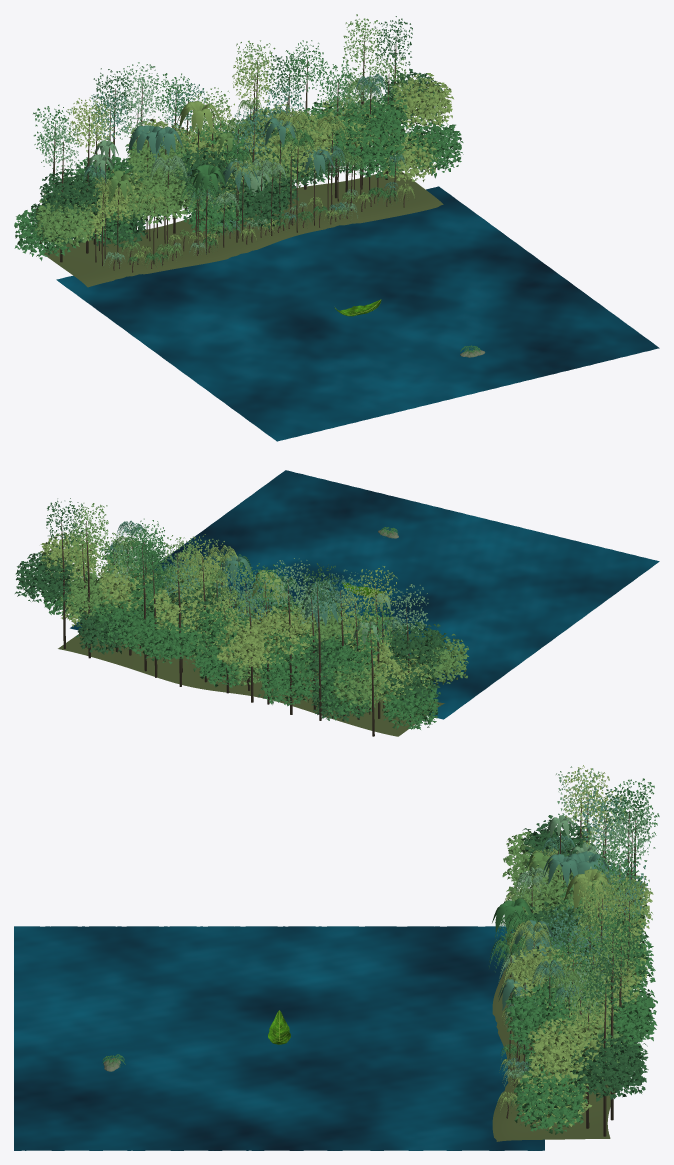
Rendered from lakeleaf-r03.glb.
The picture shows the model from 3 angles, top to bottom: view 1: azimuth 30°, elevation 25°; view 2: azimuth 150°, elevation 25°; view 3: azimuth 270°, elevation 25°; orthographic projection. The views are drawn at different scales.
Visible parts, largest first — view 1: LAKE_001_WaterSurface, SHORE_001_ObservedBankSector, MIDSTOREY_019_Crown, MIDSTOREY_011_Crown, MIDSTOREY_048_Crown, MIDSTOREY_037_Crown, MIDSTOREY_026_Crown, MIDSTOREY_050_Crown, MIDSTOREY_007_Crown, MIDSTOREY_032_Crown, MIDSTOREY_030_Crown, MIDSTOREY_023_Crown (+34 smaller); view 2: LAKE_001_WaterSurface, SHORE_001_ObservedBankSector, MIDSTOREY_045_Crown, MIDSTOREY_026_Crown, MIDSTOREY_039_Crown, MIDSTOREY_018_Crown, MIDSTOREY_041_Crown, MIDSTOREY_009_Crown, MIDSTOREY_011_Crown, MIDSTOREY_034_Crown, MIDSTOREY_013_Crown, MIDSTOREY_029_Crown (+55 smaller); view 3: LAKE_001_WaterSurface, SHORE_001_ObservedBankSector, MIDSTOREY_050_Crown, MIDSTOREY_011_Crown, MIDSTOREY_045_Crown, MIDSTOREY_019_Crown, MIDSTOREY_030_Crown, MIDSTOREY_026_Crown, MIDSTOREY_016_Crown, MIDSTOREY_044_Crown, MIDSTOREY_041_Crown, MIDSTOREY_032_Crown (+38 smaller).
Part boxes in pixels (x1,y1,x2,y2): LAKE_001_WaterSurface: (56, 186, 659, 441); SHORE_001_ObservedBankSector: (44, 170, 443, 287); MIDSTOREY_019_Crown: (347, 96, 408, 150); MIDSTOREY_011_Crown: (391, 73, 453, 128); MIDSTOREY_048_Crown: (125, 171, 184, 225); MIDSTOREY_037_Crown: (34, 193, 94, 246); MIDSTOREY_026_Crown: (39, 168, 102, 221); MIDSTOREY_050_Crown: (404, 119, 463, 178); MIDSTOREY_007_Crown: (346, 132, 405, 178); MIDSTOREY_032_Crown: (127, 136, 187, 186); MIDSTOREY_030_Crown: (273, 111, 335, 166); MIDSTOREY_023_Crown: (183, 190, 244, 237); LAKE_001_WaterSurface: (70, 470, 659, 719); SHORE_001_ObservedBankSector: (58, 629, 444, 736); MIDSTOREY_045_Crown: (15, 552, 74, 603); MIDSTOREY_026_Crown: (385, 620, 448, 671); MIDSTOREY_039_Crown: (258, 655, 318, 706); MIDSTOREY_018_Crown: (318, 633, 379, 687); MIDSTOREY_041_Crown: (258, 603, 316, 655); MIDSTOREY_009_Crown: (382, 680, 440, 729); MIDSTOREY_011_Crown: (40, 532, 99, 581); MIDSTOREY_034_Crown: (331, 658, 389, 707); MIDSTOREY_013_Crown: (92, 597, 150, 647); MIDSTOREY_029_Crown: (151, 580, 209, 632); LAKE_001_WaterSurface: (14, 926, 544, 1150); SHORE_001_ObservedBankSector: (492, 933, 615, 1141); MIDSTOREY_050_Crown: (514, 1072, 588, 1134); MIDSTOREY_011_Crown: (528, 1018, 601, 1080); MIDSTOREY_045_Crown: (570, 1032, 645, 1096); MIDSTOREY_019_Crown: (504, 986, 577, 1048); MIDSTOREY_030_Crown: (508, 944, 579, 1004); MIDSTOREY_026_Crown: (522, 815, 598, 877); MIDSTOREY_016_Crown: (602, 981, 656, 1042); MIDSTOREY_044_Crown: (519, 899, 591, 955); MIDSTOREY_041_Crown: (579, 871, 653, 931); MIDSTOREY_032_Crown: (539, 866, 613, 922).
Size of the model in its own units: 85.56 by 30.77 by 92.47.
Materials: 12 (2 with a texture image).
